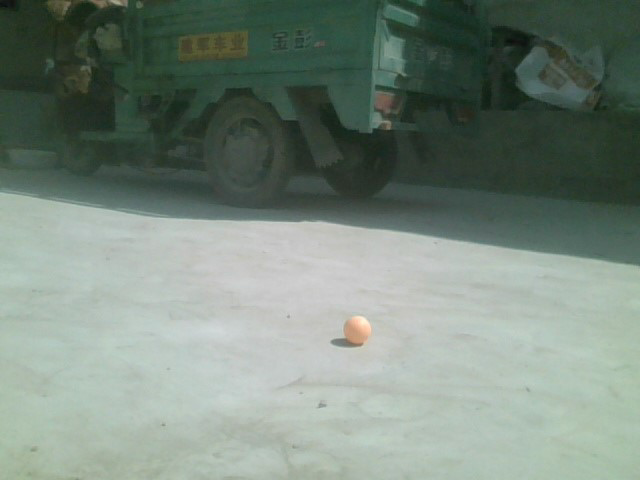ball: (345, 316, 369, 344)
